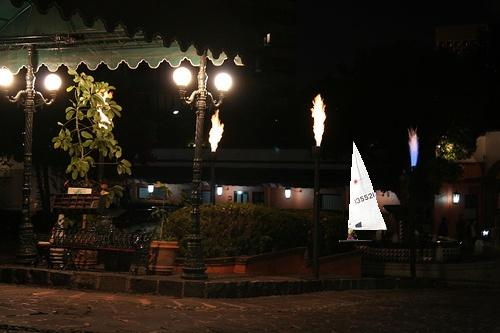tampered: (340, 142, 387, 242)
